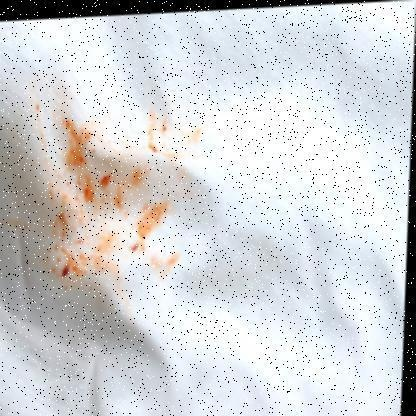kimchi: (6, 108, 210, 307), (63, 117, 100, 179), (76, 179, 96, 215), (49, 261, 74, 289), (98, 166, 115, 199), (150, 140, 163, 157), (128, 242, 142, 253)
